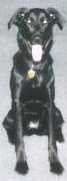dog: (3, 1, 67, 132)
